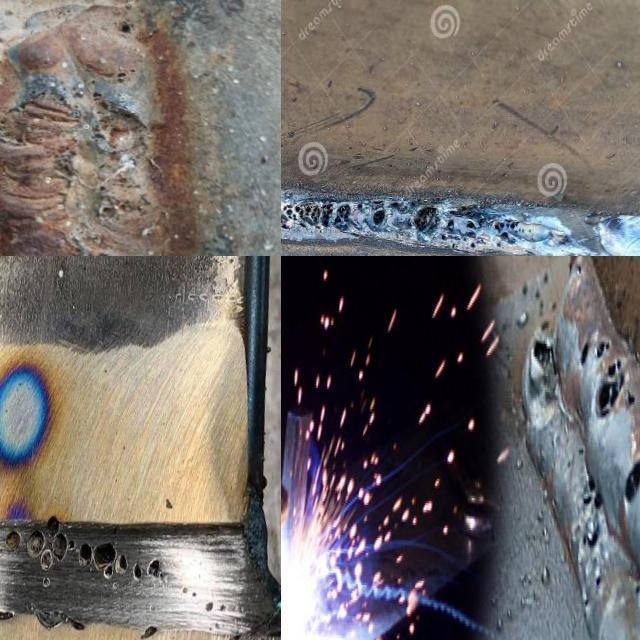defect: (24, 512, 165, 590), (281, 188, 400, 238), (574, 331, 640, 421), (438, 200, 537, 254), (0, 84, 73, 149), (83, 88, 155, 146), (527, 335, 560, 409), (43, 133, 79, 173), (622, 445, 640, 509), (409, 204, 441, 235), (93, 197, 138, 219), (581, 472, 604, 513), (108, 64, 140, 85), (582, 522, 601, 555), (0, 526, 22, 554), (111, 16, 138, 37), (203, 596, 231, 616), (179, 584, 197, 599), (575, 261, 582, 280), (568, 452, 575, 470), (578, 442, 586, 457), (595, 572, 602, 588), (634, 583, 640, 598), (584, 596, 589, 607)
